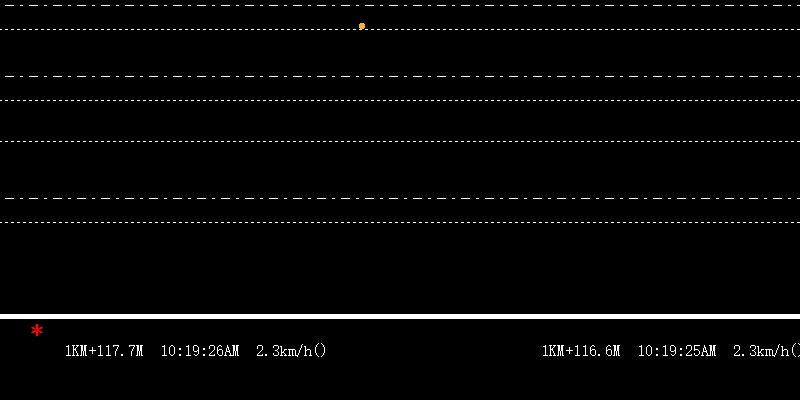face_1: (358, 17, 365, 33)
star: (29, 322, 44, 337)
